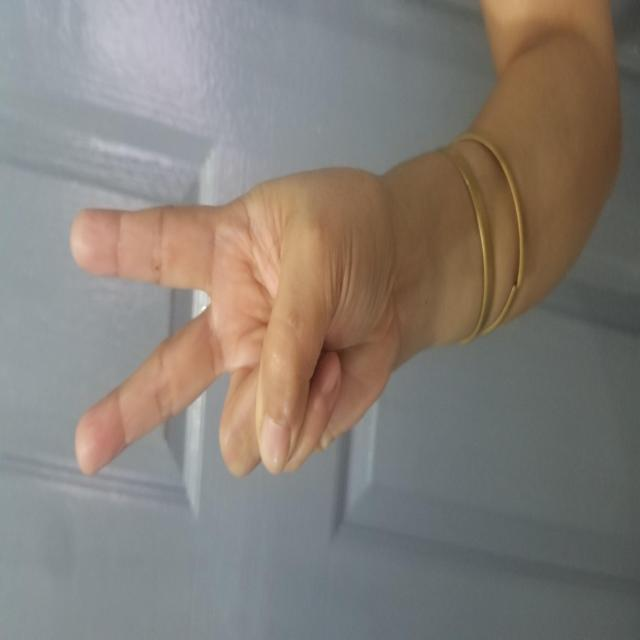V: (154, 70, 476, 386)
